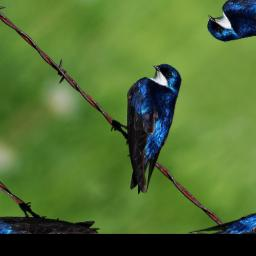Swallow: (73, 55, 230, 199)
